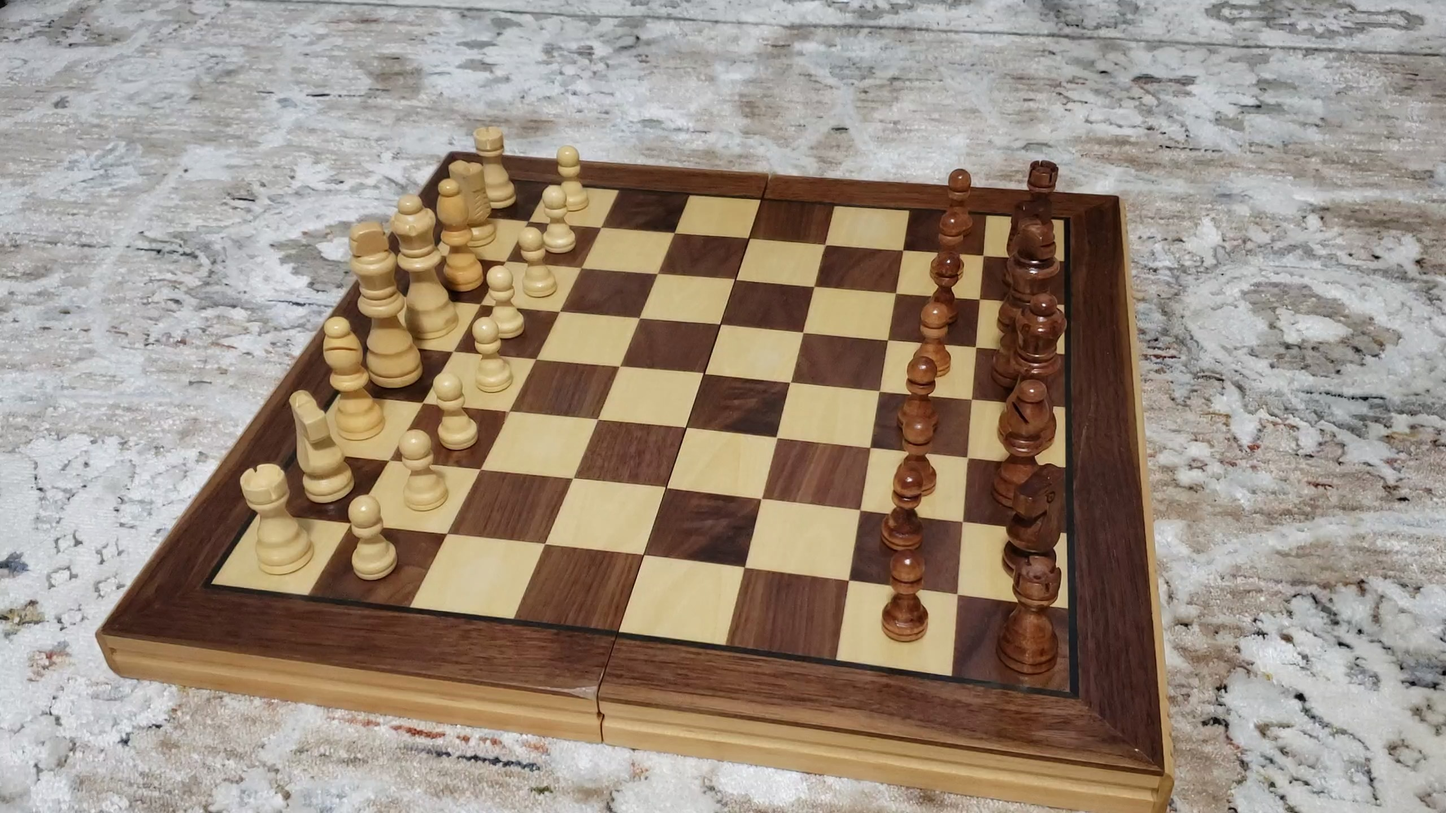black-bishop: (990, 377, 1060, 507)
black-king: (1002, 209, 1070, 289)
black-knight: (999, 462, 1068, 572)
black-pawn: (878, 457, 939, 554), (879, 550, 933, 645), (891, 404, 940, 502), (894, 353, 940, 445), (911, 298, 955, 381), (928, 204, 974, 282), (924, 249, 965, 328), (941, 163, 975, 229)
black-queen: (1002, 283, 1081, 379)
black-rook: (993, 558, 1065, 678), (1015, 154, 1070, 209)
white-bishop: (317, 316, 386, 442), (427, 175, 487, 294)
white-king: (345, 218, 424, 395)
white-knight: (284, 389, 355, 508), (443, 155, 498, 248)
white-pawn: (341, 493, 403, 585), (390, 428, 454, 516), (427, 373, 484, 454), (476, 263, 531, 343), (511, 223, 564, 304), (465, 314, 515, 397), (533, 181, 582, 259), (550, 140, 594, 216)
white-queen: (384, 193, 460, 344)
white-rook: (236, 462, 316, 578), (469, 122, 519, 213)
